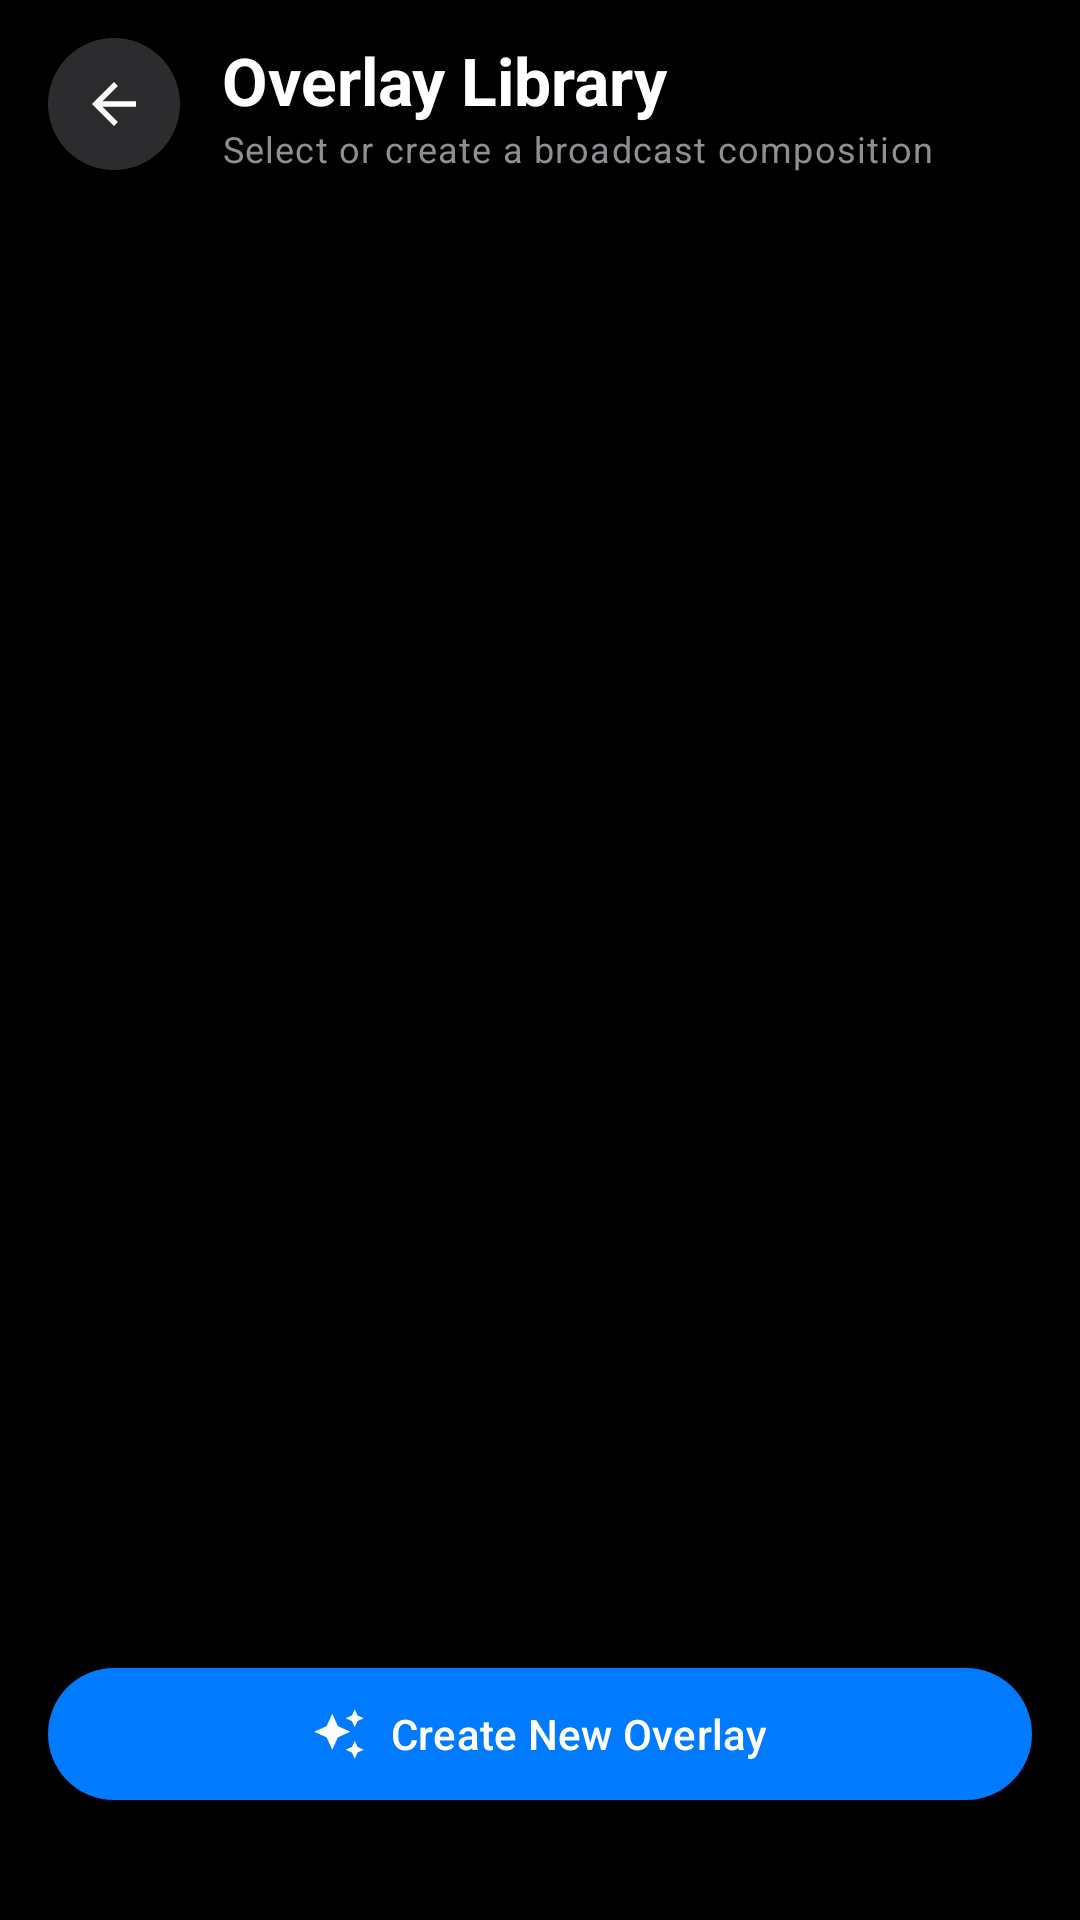

Point at icon controls on the screen. Image size 1080 × 1920, points as (x=x, y=y).
arrow back: (x=114, y=104)
